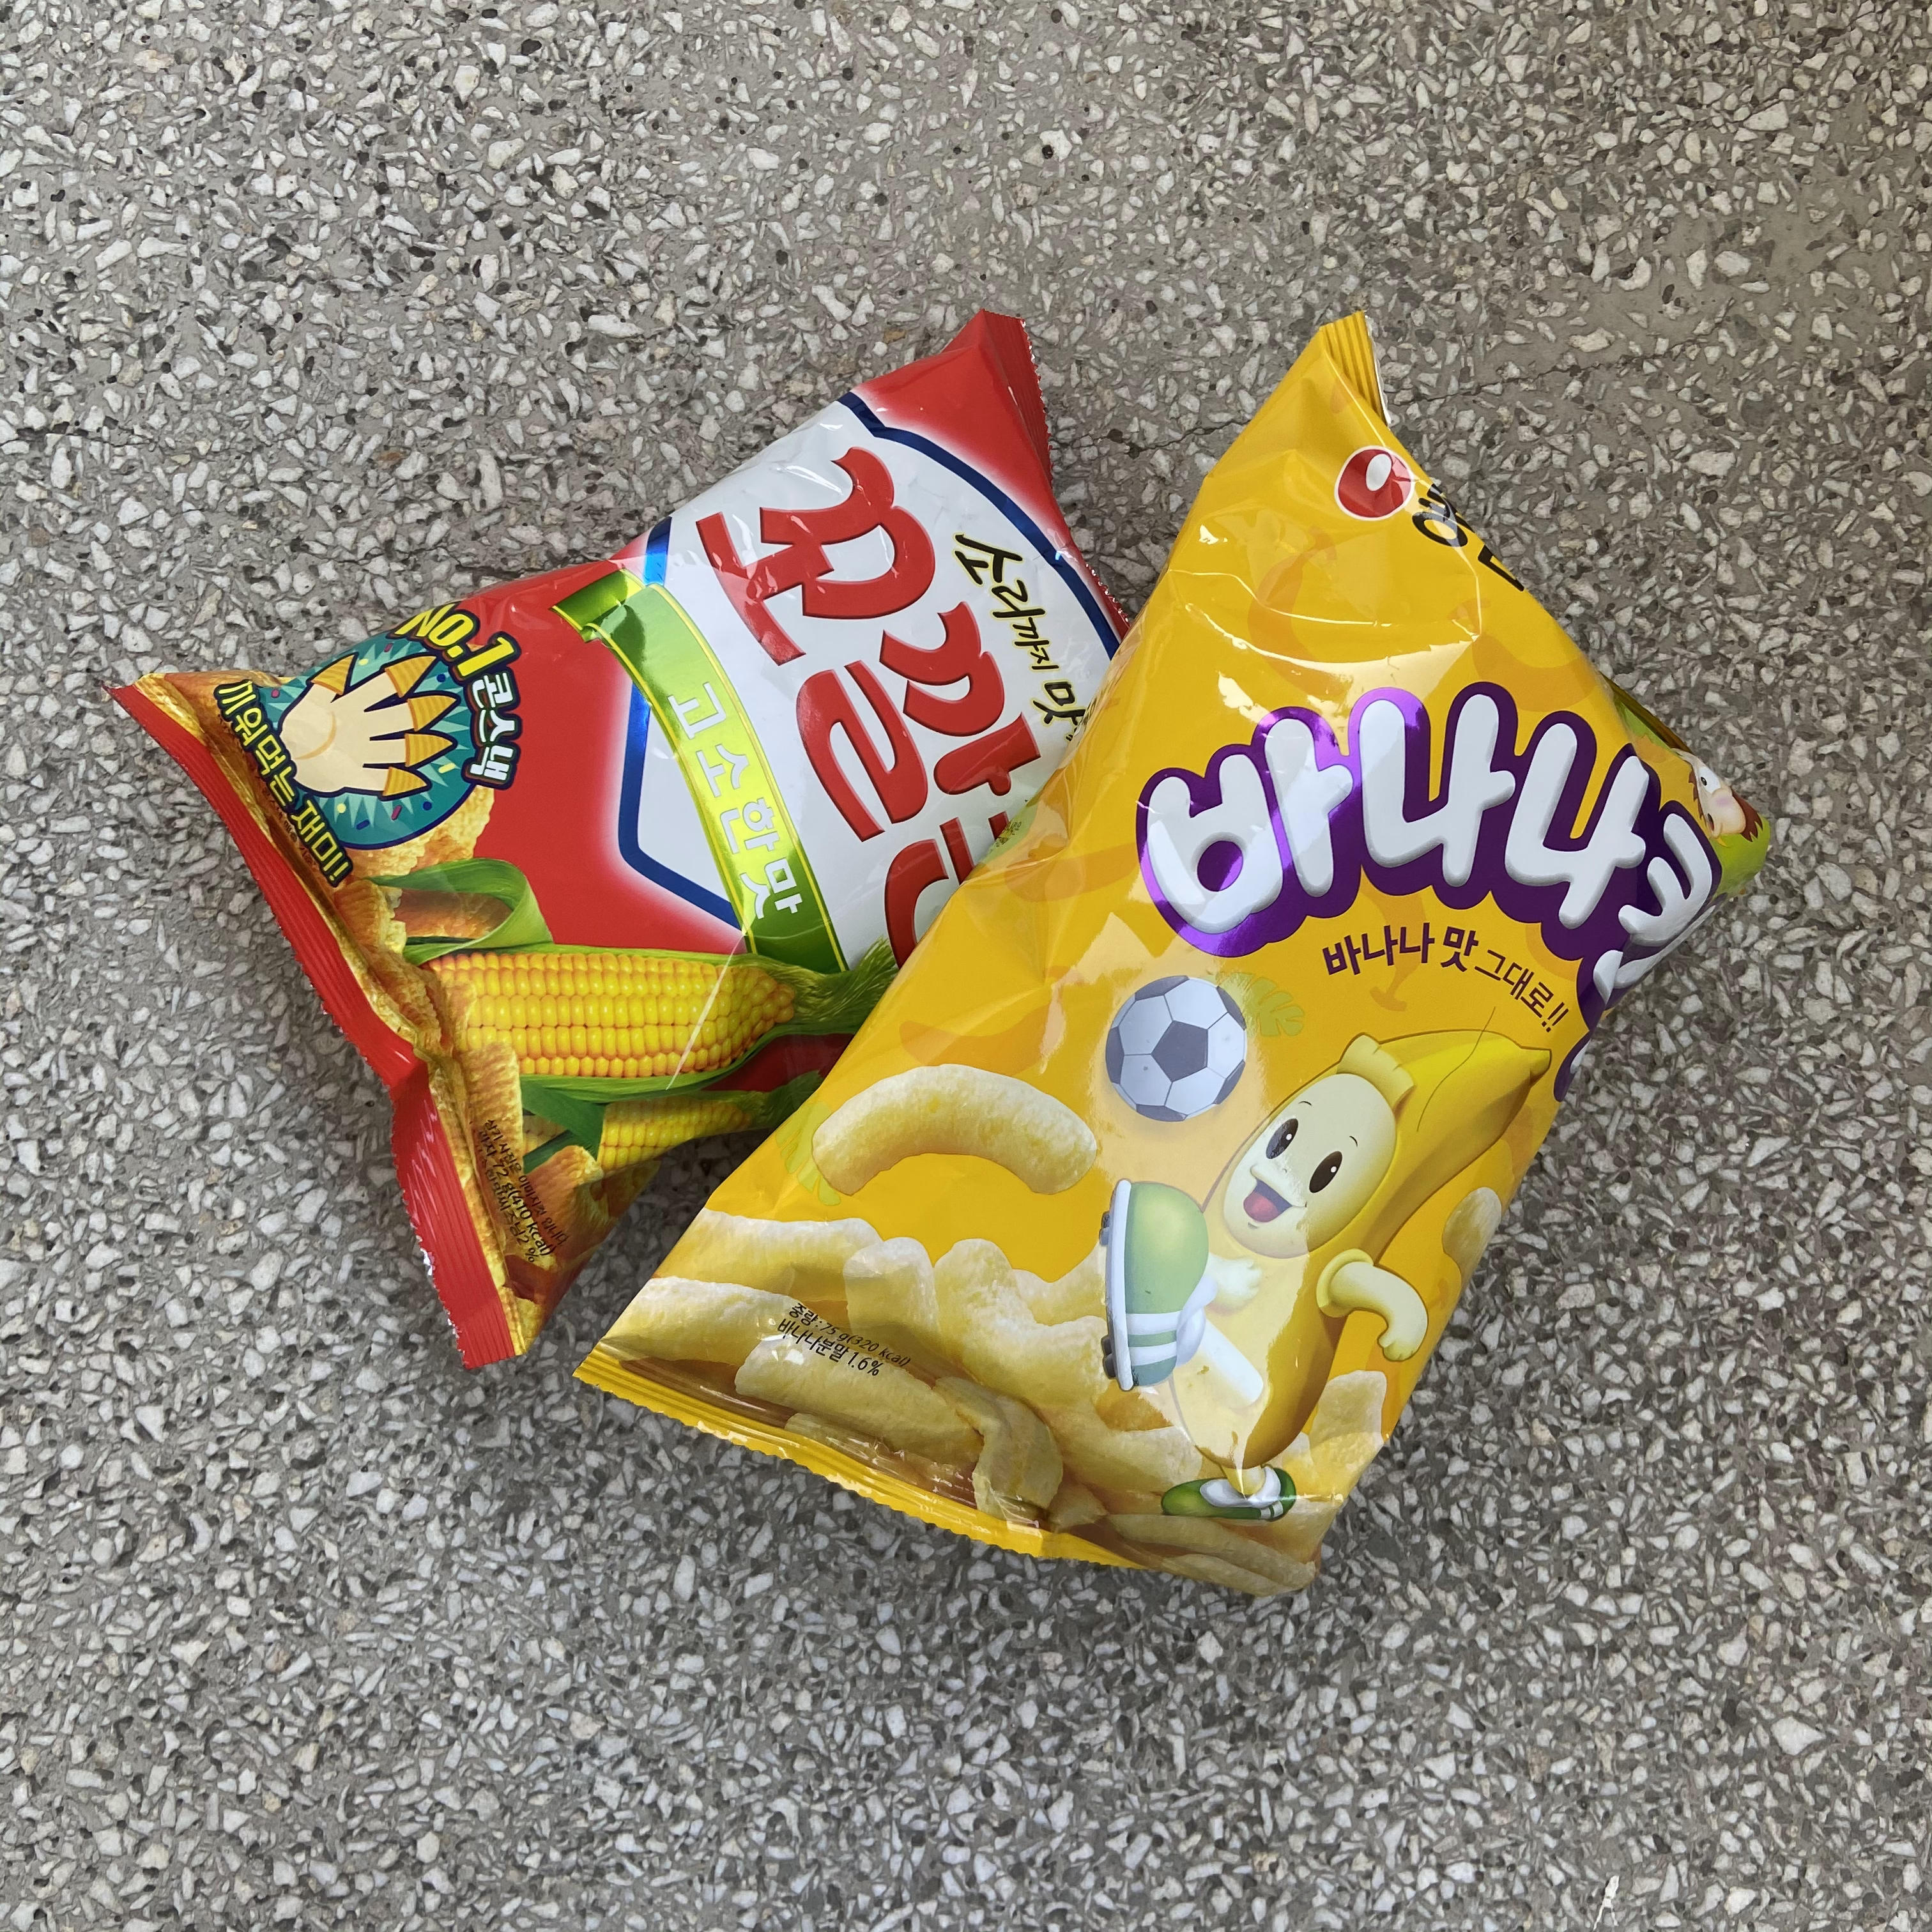banana: (548, 295, 1767, 1614)
ggoggalcon: (101, 306, 1159, 1387)
